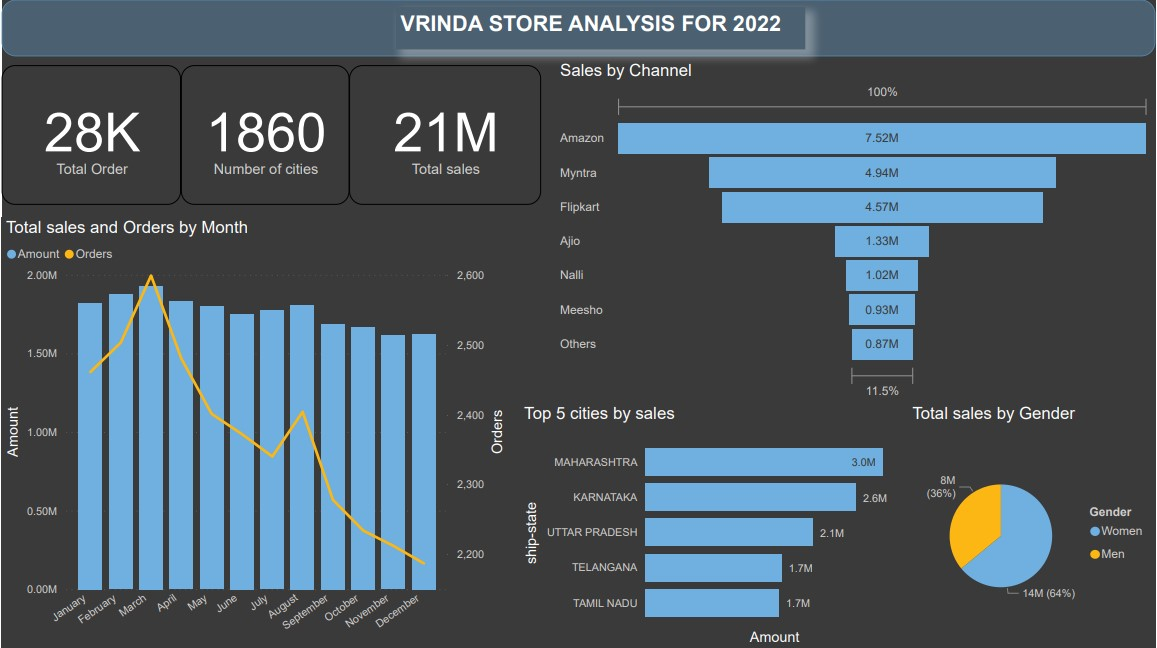

Layout of this report page (visuals, bound fields, positions):
{"tool":"powerbi","page":{"name":"Summary","canvas":[1280,720],"ordinal":0},"visuals":[{"type":"lineClusteredColumnComboChart","title":"Total sales and Orders by Month","fields":{"Y":["Sum(Vrinda Store.Amount)"],"Y2":["Count(Vrinda Store.Order ID)"],"Category":["Vrinda Store.Date.Variation.Date Hierarchy.Month"]},"box":[0,241.5,563.9,478.8],"z":0},{"type":"pieChart","title":"Total sales by Gender","fields":{"Category":["Vrinda Store.Gender"],"Y":["Sum(Vrinda Store.Amount)"]},"box":[1005.6,448.6,274.4,271.6],"z":1000},{"type":"funnel","title":"Sales by Channel ","fields":{"Category":["Vrinda Store.Channel "],"Y":["Sum(Vrinda Store.Amount)"]},"box":[614.6,67.2,665.4,381.4],"z":2000},{"type":"clusteredBarChart","title":"Top 5 cities by sales","fields":{"Category":["Vrinda Store.ship-state"],"Y":["Sum(Vrinda Store.Amount)"]},"box":[574.8,448.6,430.8,271.6],"z":3000},{"type":"card","fields":{"Values":["Count(Vrinda Store.Order ID)"]},"box":[0,72.7,198.9,155],"z":4000},{"type":"card","fields":{"Values":["Sum(Vrinda Store.Amount)"]},"box":[385.5,72.7,212.6,155],"z":5000},{"type":"shape","box":[0,0,1280,63.1],"z":6000},{"type":"textbox","box":[437.6,8.2,454.1,46.6],"z":7000},{"type":"card","fields":{"Values":["Count(Vrinda Store.ship-city)"]},"box":[198.9,72.7,186.6,155],"z":8000}]}

Visuals, with their boxes in screenshot pixels (x1, y1, x2, y2), scaled from the page's 1280x720 canvas onto the 1157x648 screenshot:
"Total sales and Orders by Month" lineClusteredColumnComboChart: {"x1": 0, "y1": 217, "x2": 510, "y2": 647}
"Total sales by Gender" pieChart: {"x1": 909, "y1": 404, "x2": 1156, "y2": 647}
"Sales by Channel " funnel: {"x1": 556, "y1": 60, "x2": 1156, "y2": 404}
"Top 5 cities by sales" clusteredBarChart: {"x1": 520, "y1": 404, "x2": 909, "y2": 647}
card - Count(Vrinda Store.Order ID): {"x1": 0, "y1": 65, "x2": 180, "y2": 205}
card - Sum(Vrinda Store.Amount): {"x1": 348, "y1": 65, "x2": 541, "y2": 205}
shape: {"x1": 0, "y1": 0, "x2": 1156, "y2": 57}
textbox: {"x1": 396, "y1": 7, "x2": 806, "y2": 49}
card - Count(Vrinda Store.ship-city): {"x1": 180, "y1": 65, "x2": 348, "y2": 205}
